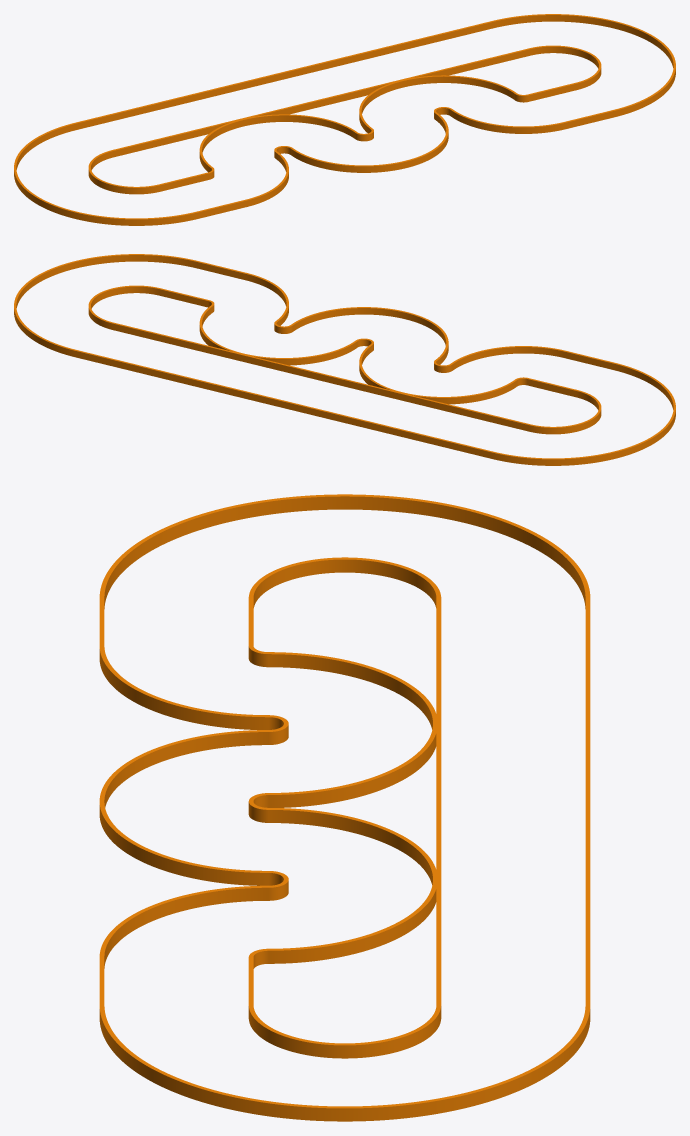
Rendered from track_small_2_walls.dae.
3 renders of one model, top to bottom at view 1: azimuth 30°, elevation 25°; view 2: azimuth 150°, elevation 25°; view 3: azimuth 270°, elevation 25°, orthographic. The views are drawn at different scales.
Visible parts, largest first — view 1: ext_wall, in_wall; view 2: ext_wall, in_wall; view 3: ext_wall, in_wall.
Part boxes in pixels (left/top/right/bottom): ext_wall: left=14, top=14, right=675, bottom=225; in_wall: left=88, top=45, right=601, bottom=194; ext_wall: left=14, top=254, right=675, bottom=465; in_wall: left=88, top=285, right=601, bottom=434; ext_wall: left=99, top=494, right=590, bottom=1121; in_wall: left=248, top=557, right=441, bottom=1058.
Size of the model in its own units: 15.1 by 5.1 by 0.15.
